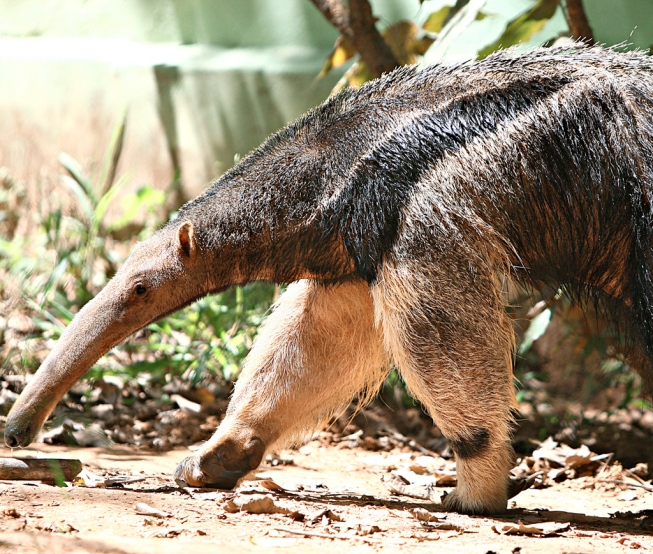TamanduaBandeira: (4, 36, 647, 518)
